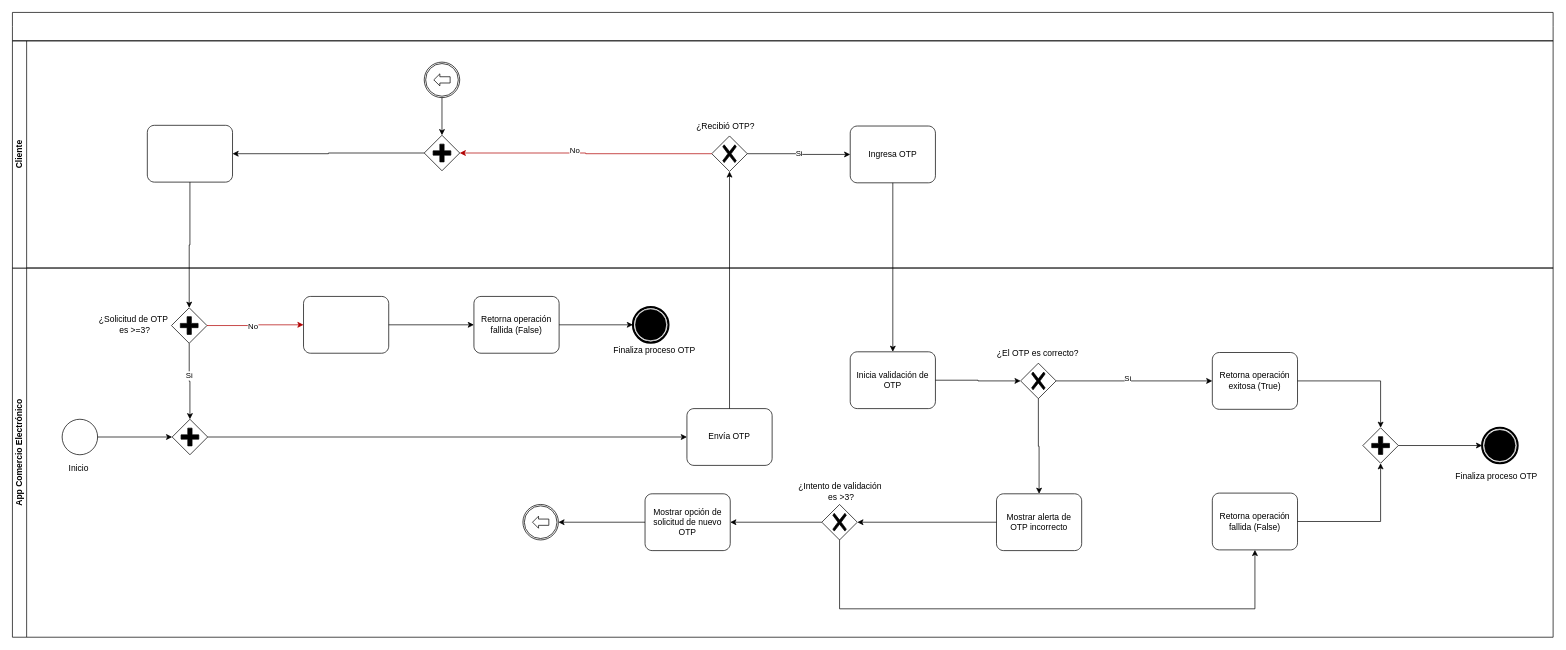
The diagram is 1566 pixels wide and 650 high, and some of its shapes have lost their labels. Here are the shapes that lost their labels. From the top down, the centre of each, then its label:
the point at 782,26: OTP
the point at 190,153: Solicita nuevo OTP
the point at 346,324: Mostrar alerta de límite de envío de OTP excedido.
